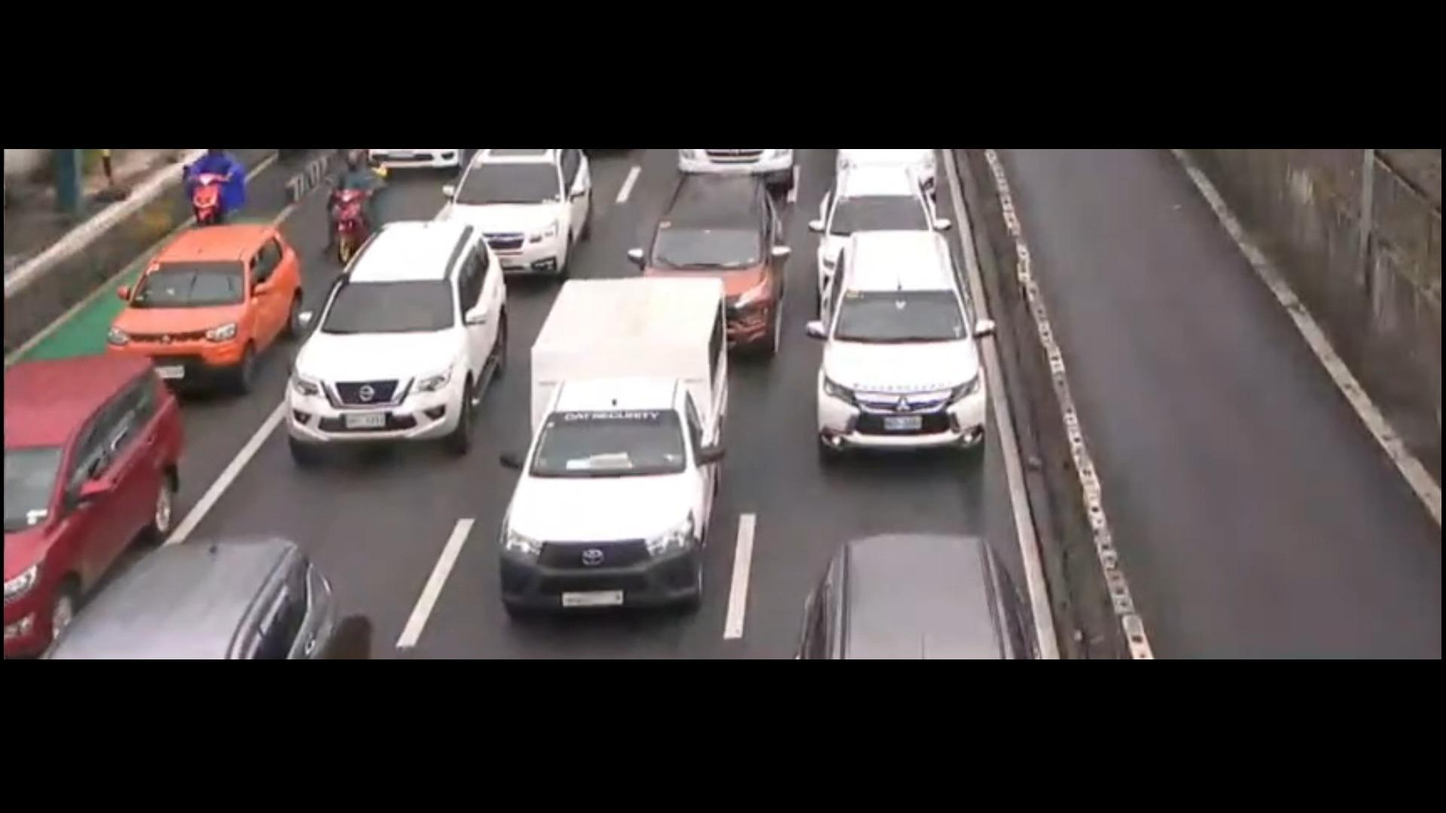Motorcycle: (312, 153, 388, 262), (181, 155, 262, 217)
SUV: (263, 226, 511, 468), (0, 341, 181, 669), (809, 217, 1000, 468), (47, 516, 352, 665), (807, 145, 968, 299), (646, 172, 782, 350), (422, 145, 590, 271)
Sedan: (107, 202, 315, 406)
Truck: (491, 260, 746, 623)
